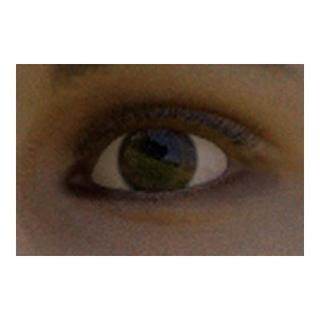pupil: (137, 139, 175, 178)
